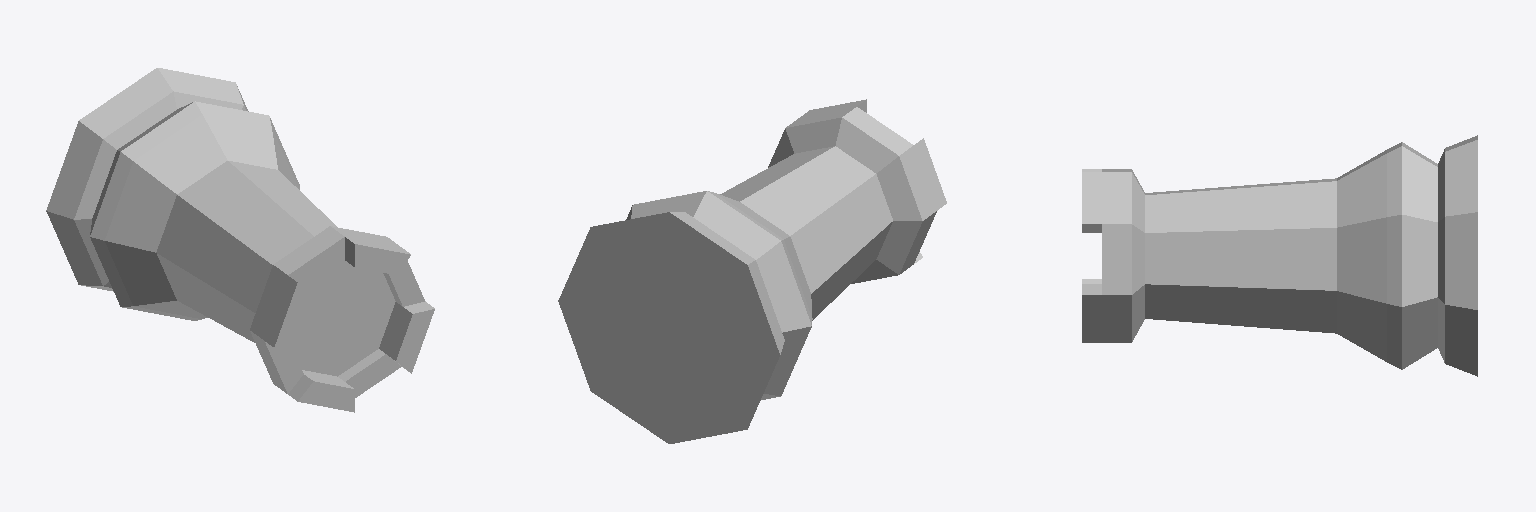
The model's file is ChessRook.obj.
3 renders of one model, left to right at view 1: azimuth 30°, elevation 25°; view 2: azimuth 150°, elevation 25°; view 3: azimuth 270°, elevation 25°, orthographic.
Visible parts, largest first — view 1: LPRook.003_Cylinder.015; view 2: LPRook.003_Cylinder.015; view 3: LPRook.003_Cylinder.015.
Part boxes in pixels (bbox=[...]): LPRook.003_Cylinder.015: bbox=[46, 68, 434, 412]; LPRook.003_Cylinder.015: bbox=[558, 99, 946, 443]; LPRook.003_Cylinder.015: bbox=[1082, 135, 1477, 376].
Bounding box in the file's own units: 3 × 3 × 4.62.